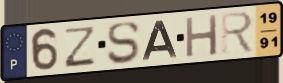6: (29, 27, 60, 73)
A: (140, 19, 180, 62)
H: (184, 13, 220, 60)
R: (220, 10, 257, 56)
S: (106, 20, 142, 67)
Z: (63, 24, 98, 70)
